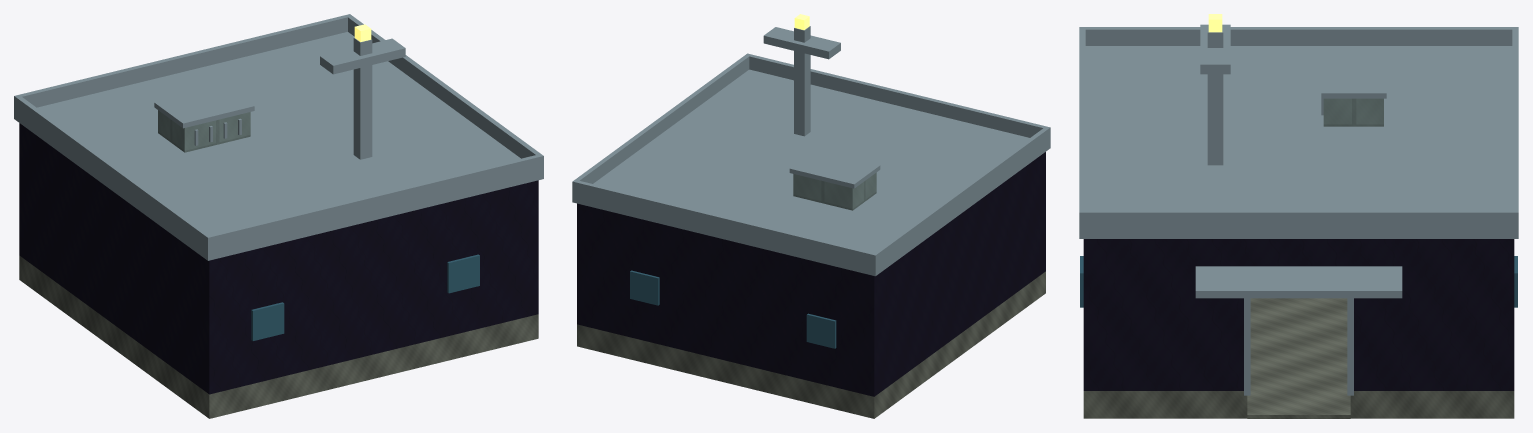
The model's file is Frontier_DecommissionedRelay.glb.
The picture shows the model from 3 angles, left to right: view 1: azimuth 30°, elevation 25°; view 2: azimuth 150°, elevation 25°; view 3: azimuth 270°, elevation 25°; orthographic projection. The views are drawn at different scales.
Parts seen in each view (by area): view 1: Frontier_DecommissionedRelay_Roof, Frontier_DecommissionedRelay_GroundShell, Frontier_DecommissionedRelay_Foundation, Frontier_DecommissionedRelay_RoofPlant, Frontier_DecommissionedRelay_SignalSpine, Frontier_DecommissionedRelay_GroundWindows; view 2: Frontier_DecommissionedRelay_Roof, Frontier_DecommissionedRelay_GroundShell, Frontier_DecommissionedRelay_Foundation, Frontier_DecommissionedRelay_RoofPlant, Frontier_DecommissionedRelay_SignalSpine, Frontier_DecommissionedRelay_GroundWindows; view 3: Frontier_DecommissionedRelay_Roof, Frontier_DecommissionedRelay_GroundShell, Frontier_DecommissionedRelay_Foundation, Frontier_DecommissionedRelay_PortalFixture, Frontier_DecommissionedRelay_RoofPlant, Frontier_DecommissionedRelay_SignalSpine, Frontier_DecommissionedRelay_ThresholdRamp, Frontier_DecommissionedRelay_PortalFrame, Frontier_DecommissionedRelay_GroundWindows.
Boxes of the visible parts, bbox=[...] form: Frontier_DecommissionedRelay_Roof: bbox=[14, 14, 543, 260]; Frontier_DecommissionedRelay_GroundShell: bbox=[19, 123, 538, 394]; Frontier_DecommissionedRelay_Foundation: bbox=[19, 255, 538, 418]; Frontier_DecommissionedRelay_RoofPlant: bbox=[154, 85, 254, 152]; Frontier_DecommissionedRelay_SignalSpine: bbox=[320, 24, 405, 159]; Frontier_DecommissionedRelay_GroundWindows: bbox=[251, 254, 479, 340]; Frontier_DecommissionedRelay_Roof: bbox=[572, 53, 1050, 276]; Frontier_DecommissionedRelay_GroundShell: bbox=[577, 152, 1045, 396]; Frontier_DecommissionedRelay_Foundation: bbox=[577, 271, 1045, 418]; Frontier_DecommissionedRelay_RoofPlant: bbox=[789, 149, 880, 210]; Frontier_DecommissionedRelay_SignalSpine: bbox=[763, 14, 840, 136]; Frontier_DecommissionedRelay_GroundWindows: bbox=[630, 270, 836, 348]; Frontier_DecommissionedRelay_Roof: bbox=[1079, 27, 1518, 238]; Frontier_DecommissionedRelay_GroundShell: bbox=[1083, 239, 1514, 390]; Frontier_DecommissionedRelay_Foundation: bbox=[1083, 298, 1514, 418]; Frontier_DecommissionedRelay_PortalFixture: bbox=[1195, 266, 1402, 298]; Frontier_DecommissionedRelay_RoofPlant: bbox=[1321, 53, 1386, 126]; Frontier_DecommissionedRelay_SignalSpine: bbox=[1200, 14, 1230, 165]; Frontier_DecommissionedRelay_ThresholdRamp: bbox=[1247, 391, 1350, 418]; Frontier_DecommissionedRelay_PortalFrame: bbox=[1244, 298, 1353, 395]; Frontier_DecommissionedRelay_GroundWindows: bbox=[1080, 256, 1517, 307].
Bounding box in the file's own units: 11.45 × 8.62 × 10.2.
Materials: 7 (3 with a texture image).
